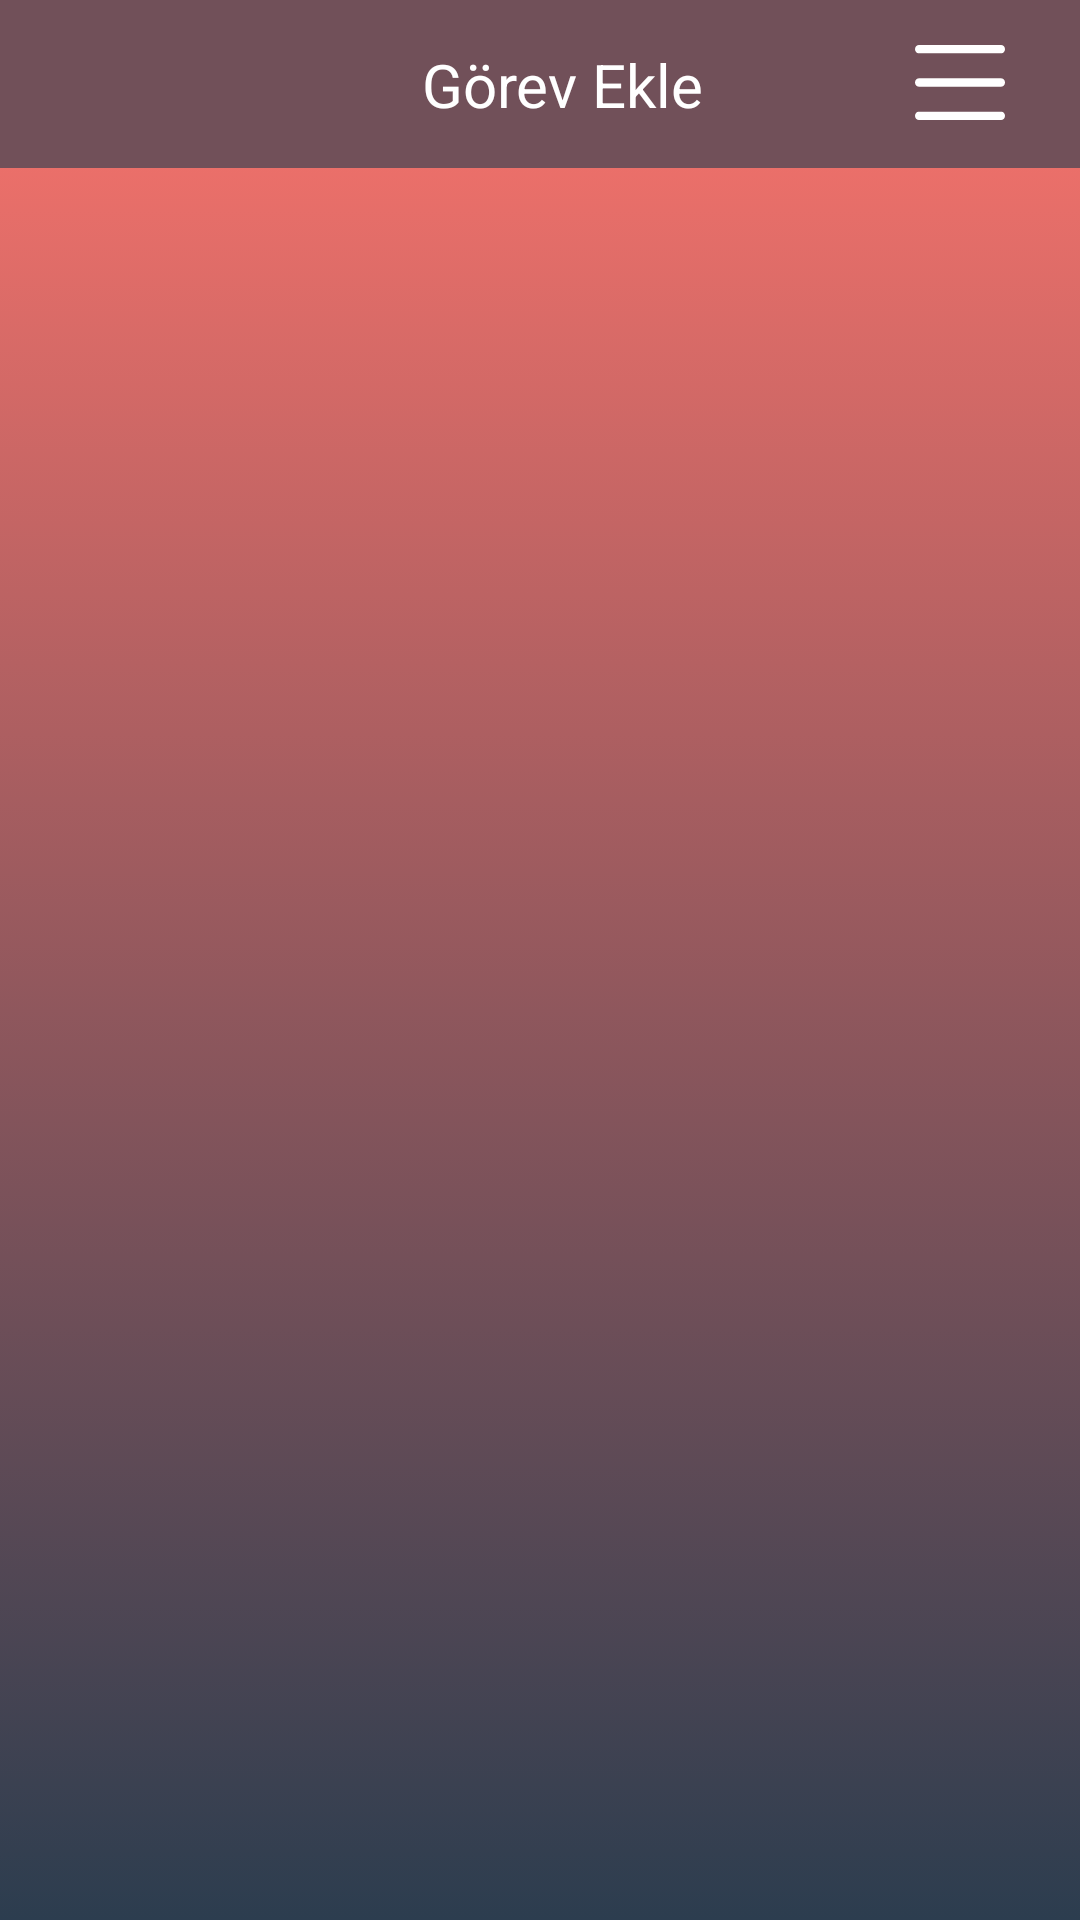

Where to tap for icons on this 1080*1920 app screen, as (x=x, y=y):
menu: (x=960, y=82)
